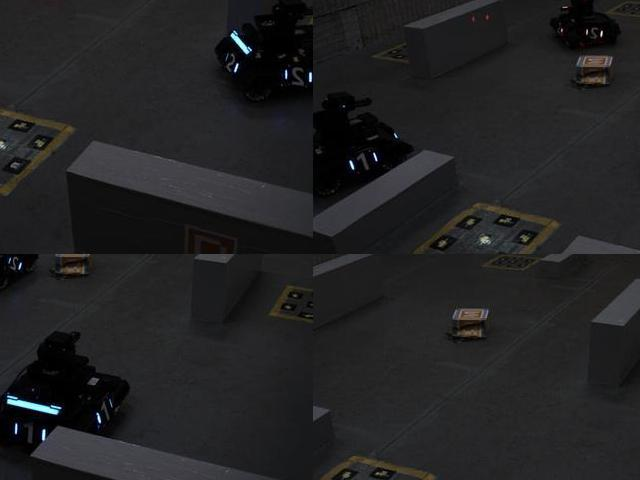armor: (9, 417, 49, 449), (345, 147, 382, 176), (86, 394, 115, 429), (281, 63, 312, 92), (219, 46, 241, 80), (4, 254, 28, 277), (582, 22, 607, 44)
